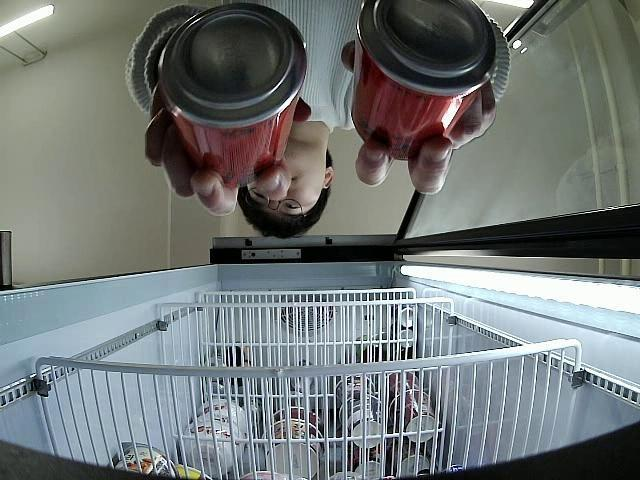11_cocaColaZero: (156, 4, 306, 176), (355, 0, 496, 160)
